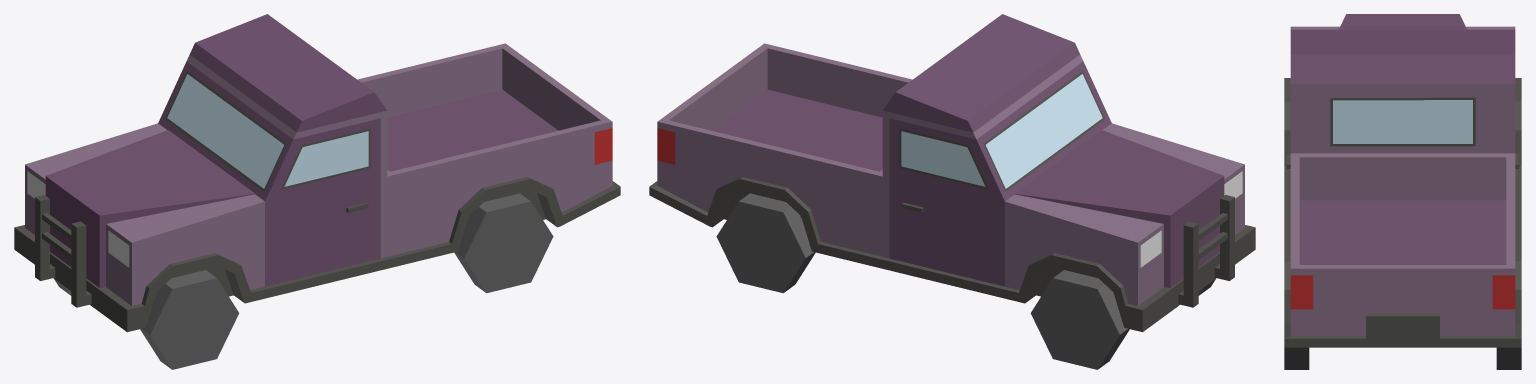
File: Pickup_2.fbx
3 views of the same model, side by side, from view 1: azimuth 30°, elevation 25°; view 2: azimuth 150°, elevation 25°; view 3: azimuth 270°, elevation 25° (orthographic). The views are drawn at different scales.
Visible parts, largest first — view 1: Pickup_2; view 2: Pickup_2; view 3: Pickup_2.
Boxes of the visible parts, x1,y1,x2,y2 form: Pickup_2: (14,14,620,369); Pickup_2: (649,14,1255,369); Pickup_2: (1284,14,1521,369).
Size of the model in its own units: 7.79 by 3.3 by 3.01.
1 material, 1 textured.
